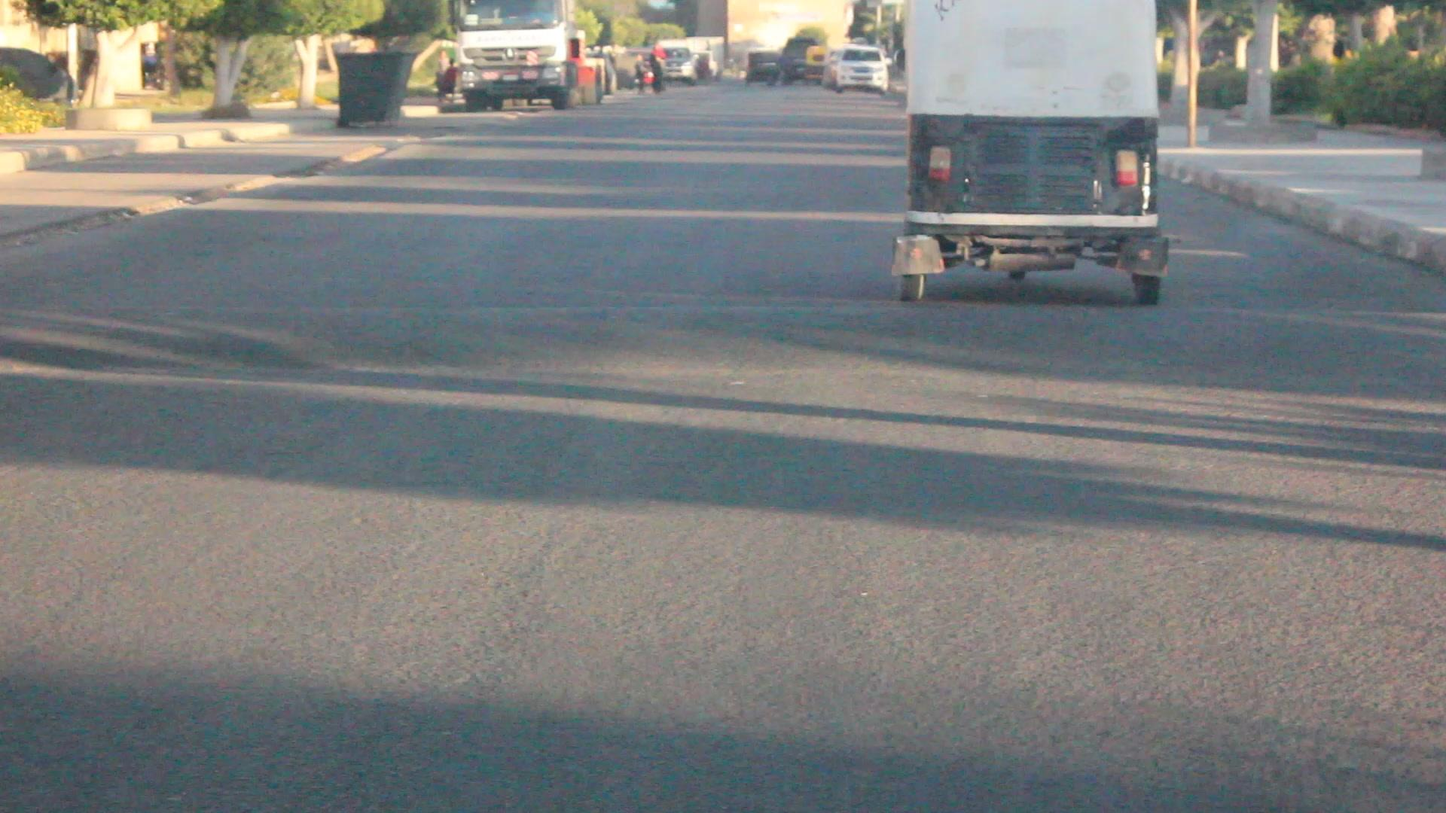Bump: (0, 292, 1446, 354)
